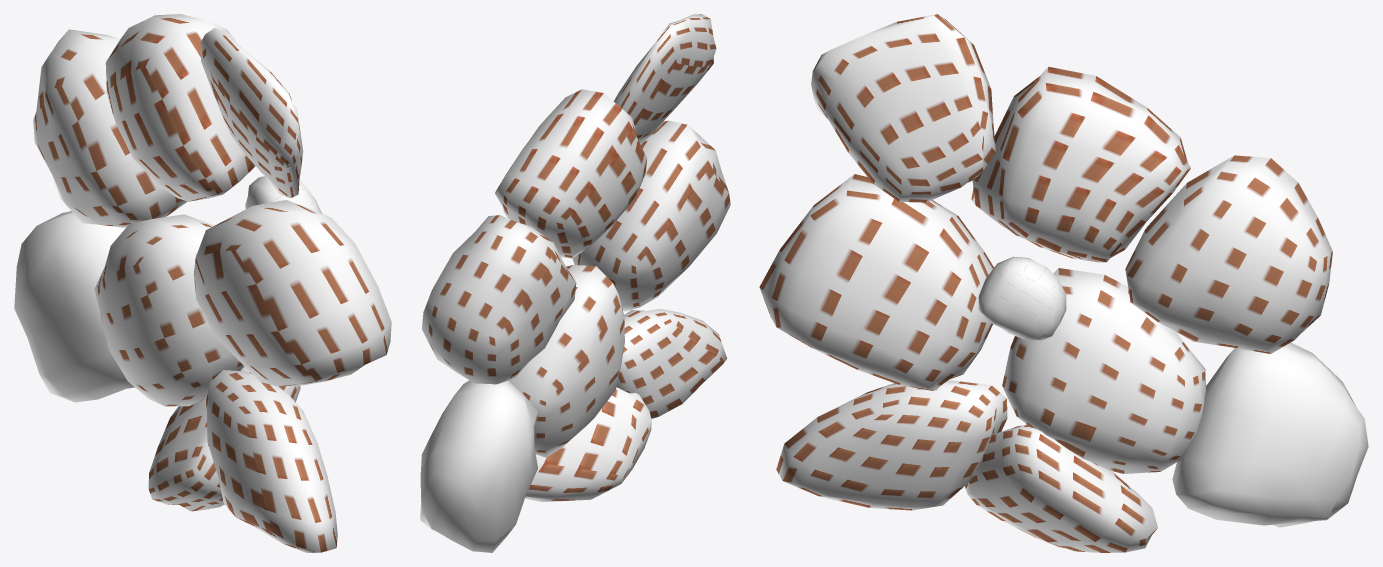
File: stoneHeapModel.fbx
3 views of the same model, side by side, from view 1: azimuth 30°, elevation 25°; view 2: azimuth 150°, elevation 25°; view 3: azimuth 270°, elevation 25° (orthographic). The views are drawn at different scales.
Visible parts, largest first — view 1: Cylinder_001; view 2: Cylinder_001; view 3: Cylinder_001.
Boxes of the visible parts, x1,y1,x2,y2 form: Cylinder_001: [14, 14, 391, 552]; Cylinder_001: [420, 14, 730, 552]; Cylinder_001: [759, 14, 1368, 552].
Bounding box in the file's own units: 0.3862 × 1.24 × 1.33.
